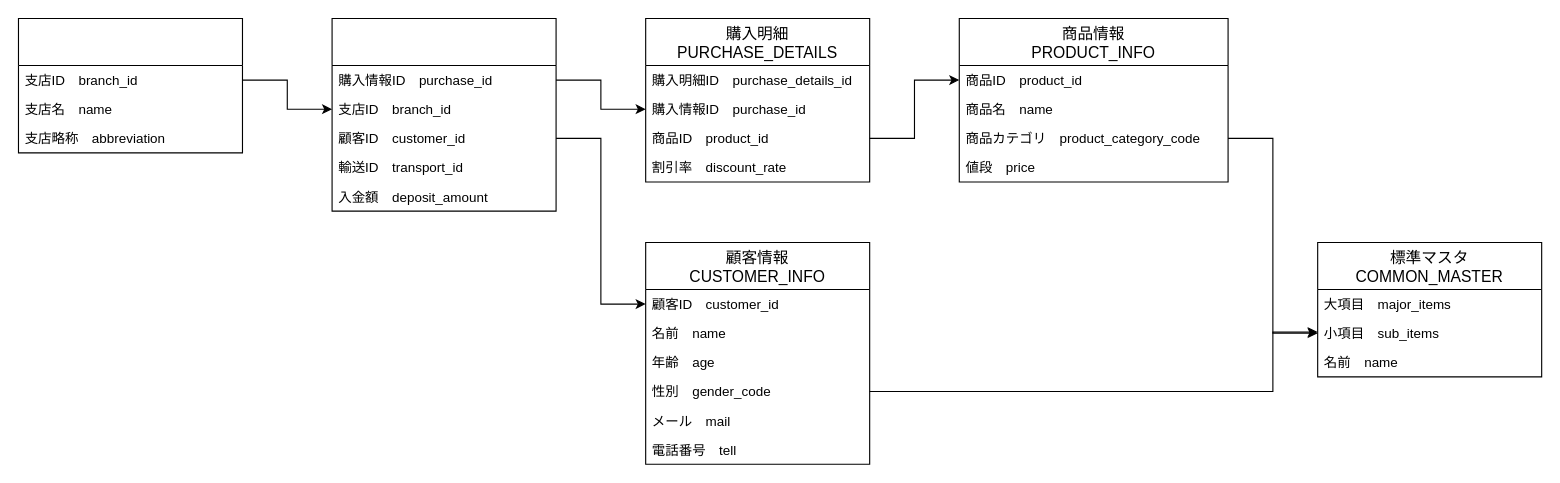
The diagram is 1560 pixels wide and 483 high, and some of its shapes have lost their labels. Each missing label, with the box of its shape:
支店マスタ BRANCH_MASTER: (17, 17, 242, 153)
購入情報 PURCHASE_INFO: (331, 17, 556, 211)
